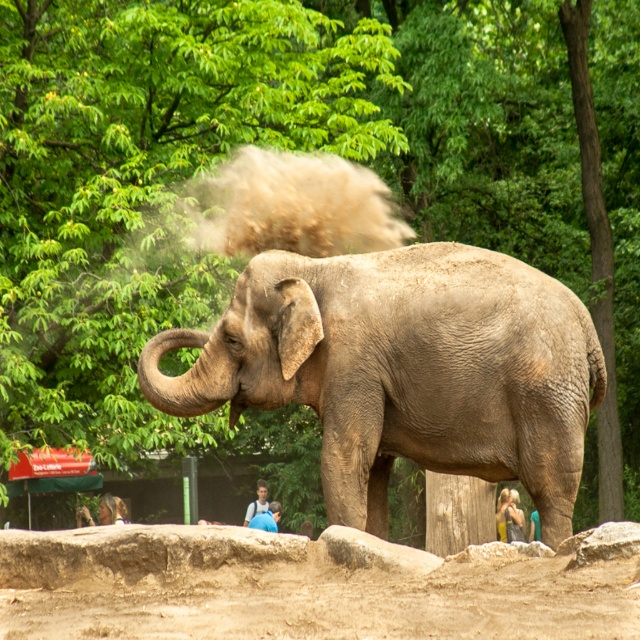Elephant: (137, 240, 607, 551)
